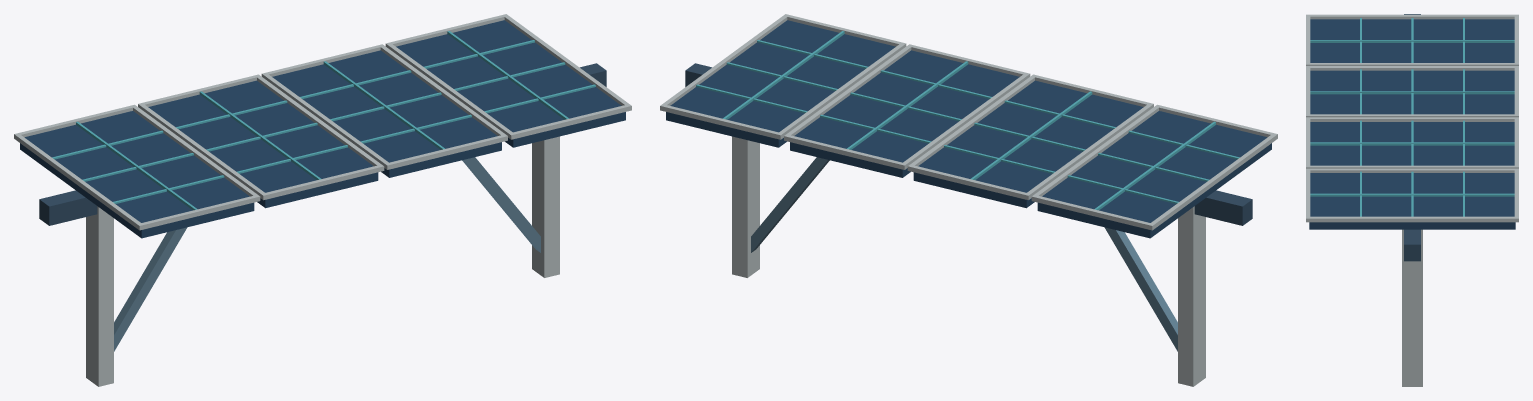
Rendered from SpaceStation_SolarTruss_Standard.glb.
3 renders of one model, left to right at view 1: azimuth 30°, elevation 25°; view 2: azimuth 150°, elevation 25°; view 3: azimuth 270°, elevation 25°, orthographic. The views are drawn at different scales.
Parts seen in each view (by area): view 1: SpaceStation_SolarTruss_Standard; view 2: SpaceStation_SolarTruss_Standard; view 3: SpaceStation_SolarTruss_Standard.
Part boxes in pixels (x1,y1,x2,y2): SpaceStation_SolarTruss_Standard: [14, 14, 631, 386]; SpaceStation_SolarTruss_Standard: [660, 14, 1277, 386]; SpaceStation_SolarTruss_Standard: [1306, 14, 1518, 386].
Bounding box in the file's own units: 9 × 3.18 × 3.51.
